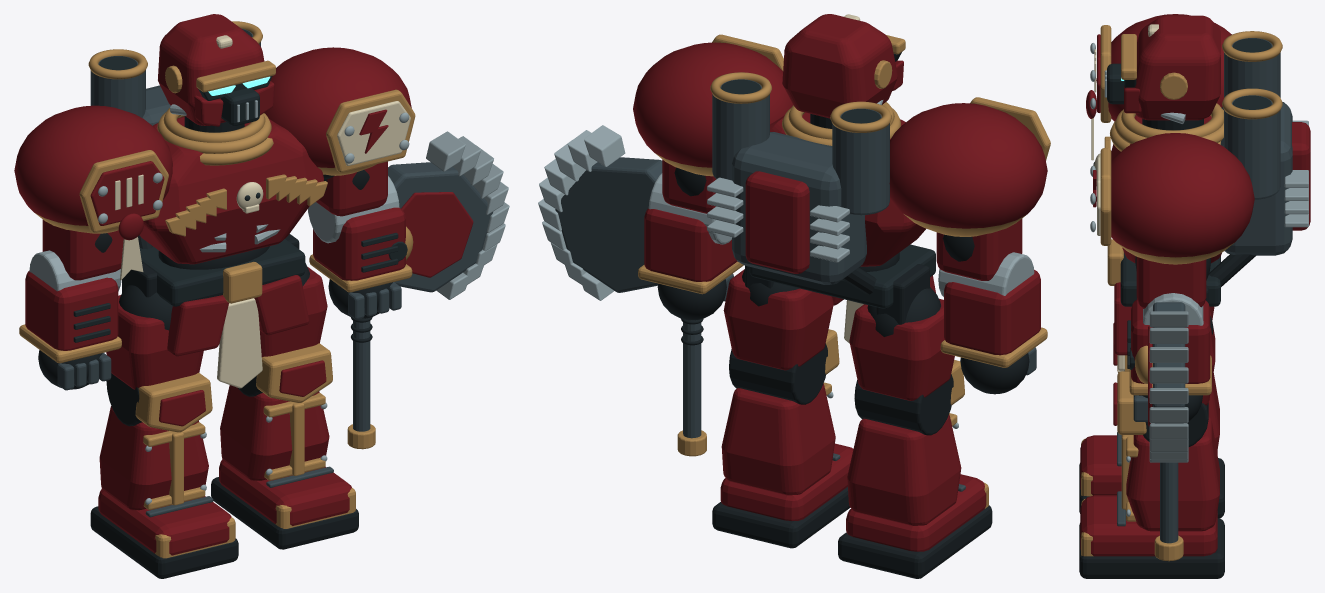
File: marine-base-blender.glb
The picture shows the model from 3 angles, left to right: view 1: azimuth 30°, elevation 25°; view 2: azimuth 150°, elevation 25°; view 3: azimuth 270°, elevation 25°; orthographic projection. The views are drawn at different scales.
Parts seen in each view (by area): view 1: Torso.001 · surfaces, Shoulder.L.001 · surfaces, Weapon · ChainAxe.001 · surfaces, Hips.001 · surfaces, Shoulder.R.001 · surfaces, Shin.L.001 · surfaces, Shin.R.001 · surfaces, Head.001 · surfaces, Foot.L.001 · surfaces, Foot.R.001 · surfaces, Forearm.L.001 · surfaces, Forearm.R.001 · surfaces (+7 smaller); view 2: PowerPack.001 · surfaces, Shoulder.L.001 · surfaces, Weapon · ChainAxe.001 · surfaces, Shin.R.001 · surfaces, Shin.L.001 · surfaces, Shoulder.R.001 · surfaces, Head.001 · surfaces, Forearm.L.001 · surfaces, Thigh.L.001 · surfaces, Foot.L.001 · surfaces, Thigh.R.001 · surfaces, Foot.R.001 · surfaces (+7 smaller); view 3: Shoulder.R.001 · surfaces, PowerPack.001 · surfaces, Head.001 · surfaces, Weapon · ChainAxe.001 · surfaces, Shin.R.001 · surfaces, Foot.R.001 · surfaces, Forearm.R.001 · surfaces, Hips.001 · surfaces, Foot.L.001 · surfaces, Shoulder.L.001 · surfaces, UpperArm.R.001 · surfaces, Torso.001 · surfaces (+3 smaller).
Part boxes in pixels (x1,y1,x2,y2): Torso.001 · surfaces: (139,108,327,264); Shoulder.L.001 · surfaces: (14,105,172,280); Weapon · ChainAxe.001 · surfaces: (347,131,509,449); Hips.001 · surfaces: (122,234,309,388); Shoulder.R.001 · surfaces: (264,47,415,179); Shin.L.001 · surfaces: (99,372,212,510); Shin.R.001 · surfaces: (220,343,332,480); Head.001 · surfaces: (158,14,275,132); Foot.L.001 · surfaces: (90,489,238,578); Foot.R.001 · surfaces: (211,459,358,549); Forearm.L.001 · surfaces: (19,250,121,363); Forearm.R.001 · surfaces: (308,176,412,292); PowerPack.001 · surfaces: (707,72,891,284); Shoulder.L.001 · surfaces: (889,97,1050,236); Weapon · ChainAxe.001 · surfaces: (538,125,706,456); Shin.R.001 · surfaces: (721,329,839,495); Shin.L.001 · surfaces: (847,360,964,525); Shoulder.R.001 · surfaces: (633,34,792,176); Head.001 · surfaces: (782,14,905,128); Forearm.L.001 · surfaces: (938,252,1047,367); Thigh.L.001 · surfaces: (849,287,954,400); Foot.L.001 · surfaces: (838,474,992,578); Thigh.R.001 · surfaces: (723,269,833,370); Foot.R.001 · surfaces: (712,443,853,548); Shoulder.R.001 · surfaces: (1090,133,1254,264); PowerPack.001 · surfaces: (1220,31,1310,255); Head.001 · surfaces: (1104,15,1220,130); Weapon · ChainAxe.001 · surfaces: (1130,302,1188,561); Shin.R.001 · surfaces: (1113,371,1219,531); Foot.R.001 · surfaces: (1079,491,1224,578); Forearm.R.001 · surfaces: (1127,293,1211,395); Hips.001 · surfaces: (1107,239,1255,371); Foot.L.001 · surfaces: (1079,432,1224,518); Shoulder.L.001 · surfaces: (1086,14,1231,160); UpperArm.R.001 · surfaces: (1135,256,1210,308); Torso.001 · surfaces: (1093,103,1223,263).
Bounding box in the file's own units: 3.46 × 3.45 × 1.43.
